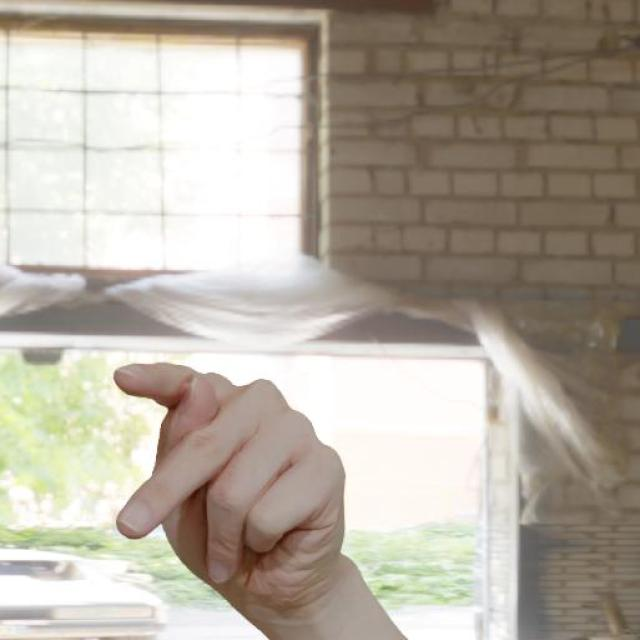P: (111, 353, 352, 622)
